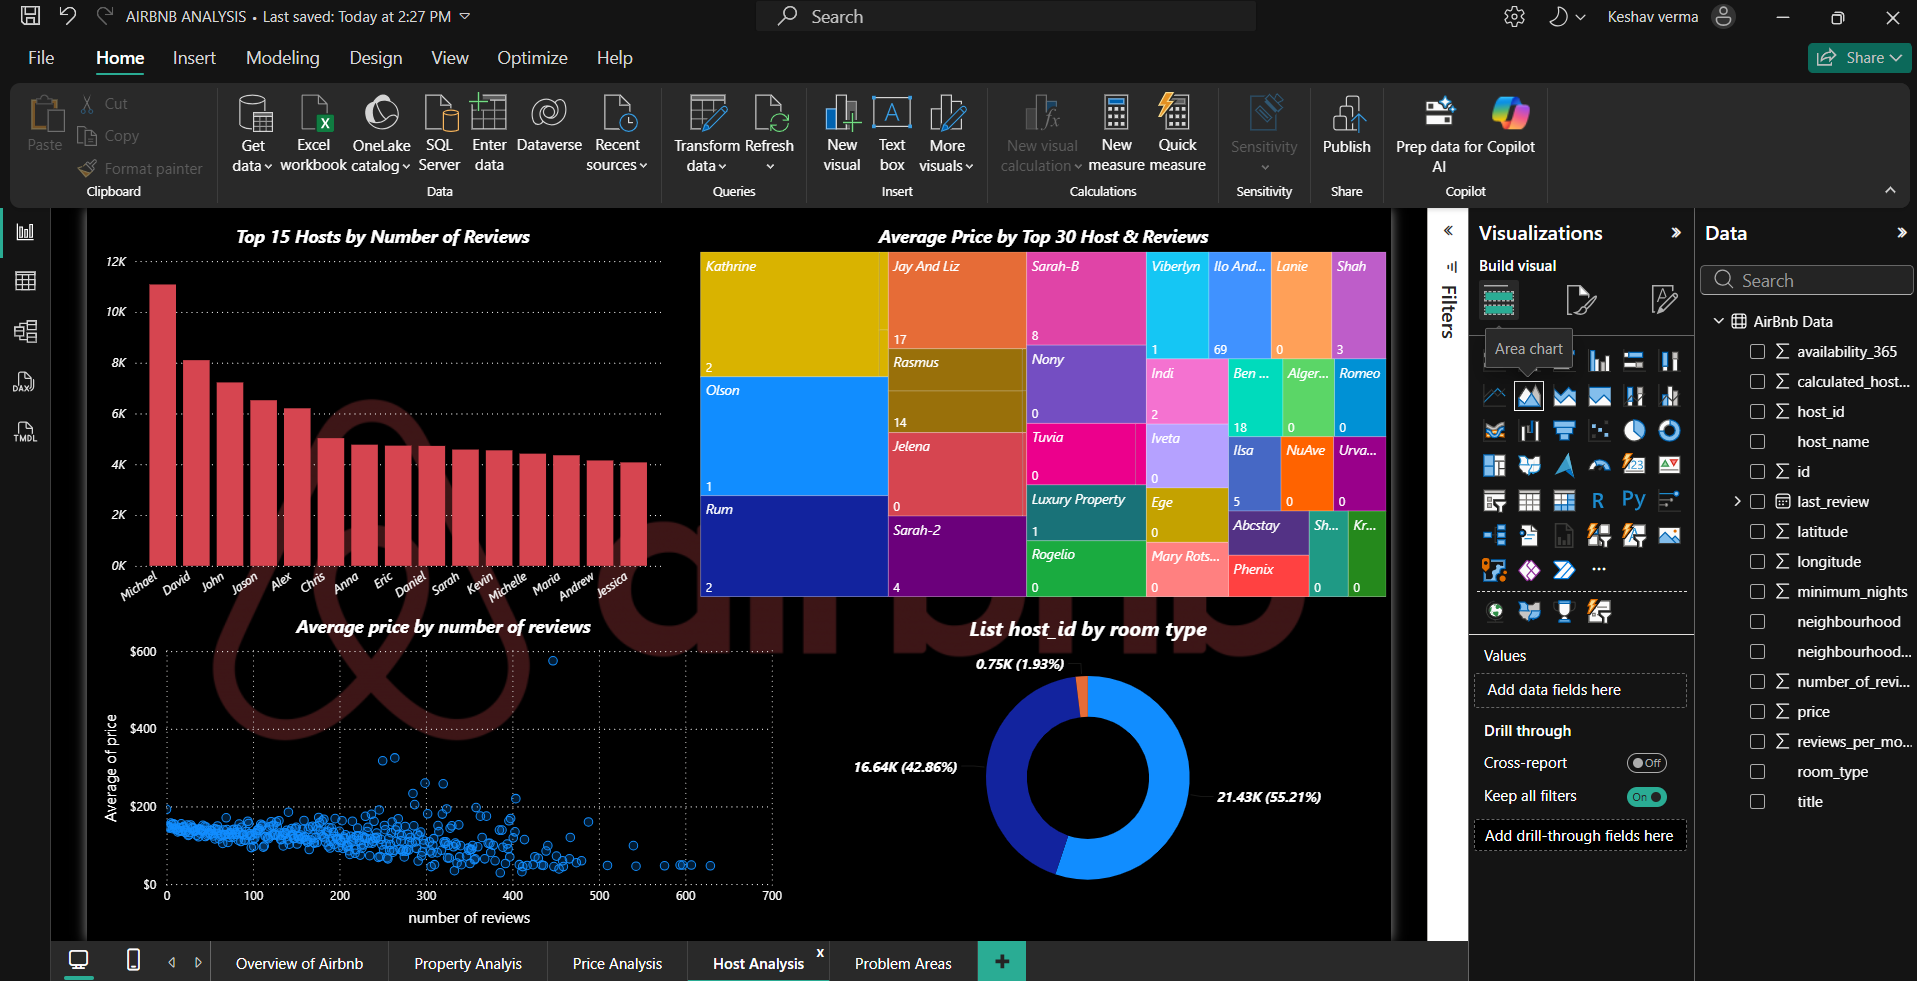

Layout of this report page (visuals, bound fields, positions):
{"tool":"powerbi","page":{"name":"Host Analysis","canvas":[1280,720],"ordinal":3},"visuals":[{"type":"clusteredColumnChart","title":"Top 15 Hosts by Number of Reviews","fields":{"Category":["AirBnb Data.host_name"],"Y":["Sum(AirBnb Data.number_of_reviews)"]},"box":[12.4,15.4,556.1,395.5],"z":0},{"type":"treemap","title":"Average Price by Top 30 Host & Reviews","fields":{"Details":["AirBnb Data.number_of_reviews"],"Group":["AirBnb Data.host_name"],"Values":["Avg(AirBnb Data.price)"]},"box":[597.9,15.4,682.8,370.8],"z":1000},{"type":"scatterChart","title":"Average price by number of reviews","fields":{"X":["AirBnb Data.number_of_reviews"],"Y":["Avg(AirBnb Data.price)"]},"box":[12.4,398.6,675.1,312.1],"z":2000},{"type":"donutChart","title":"List host_id by room type","fields":{"Category":["AirBnb Data.room_type"],"Y":["Count(AirBnb Data.host_id)"]},"box":[709.1,398.6,546.9,295.1],"z":3000}]}

Visuals, with their boxes on the page's 1280x720 design canvas (x1, y1, x2, y2). These are canvas units, not pixel positions in the 1917x981 screenshot, which may show the page scaled, cropped or inside an application window:
"Top 15 Hosts by Number of Reviews" clusteredColumnChart: rect(12, 15, 568, 411)
"Average Price by Top 30 Host & Reviews" treemap: rect(598, 15, 1281, 386)
"Average price by number of reviews" scatterChart: rect(12, 399, 688, 711)
"List host_id by room type" donutChart: rect(709, 399, 1256, 694)
